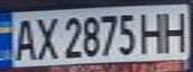2: (60, 12, 84, 60)
5: (115, 10, 142, 56)
7: (100, 11, 121, 56)
8: (78, 12, 103, 59)
A: (9, 15, 39, 62)
H: (136, 8, 169, 54), (160, 7, 193, 53)
X: (33, 12, 60, 61)
